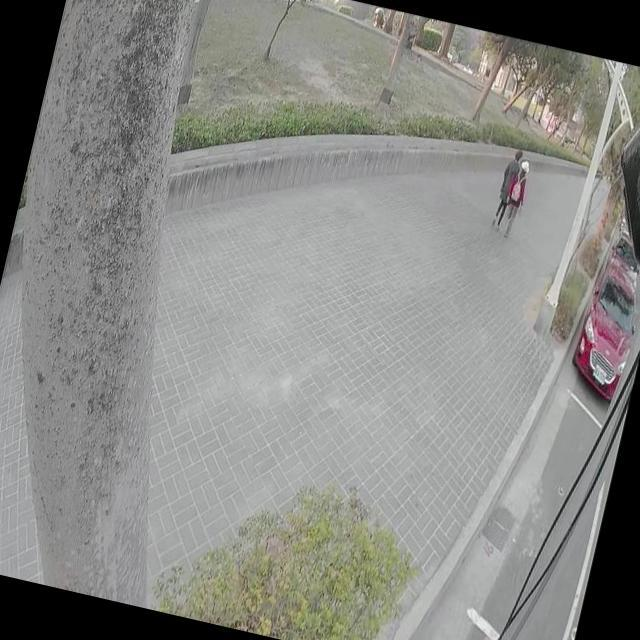person: (489, 144, 523, 228), (499, 156, 532, 238)
